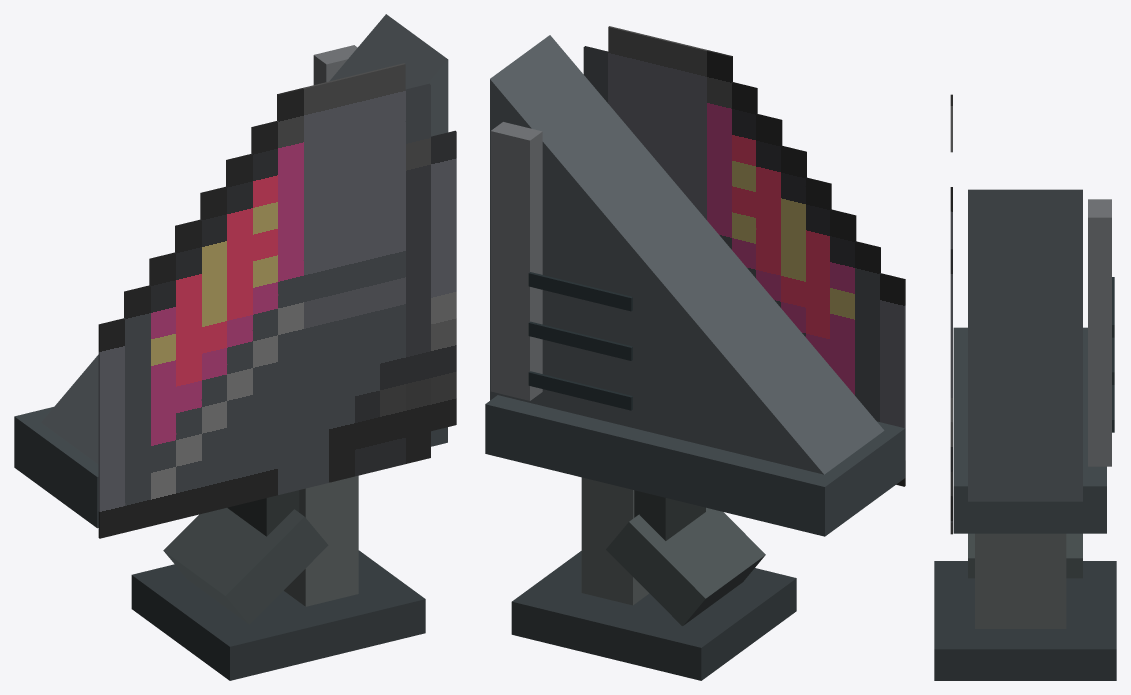
Rendered from CMU3DAutodocConsoleCloudNorth.glb.
3 renders of one model, left to right at view 1: azimuth 30°, elevation 25°; view 2: azimuth 150°, elevation 25°; view 3: azimuth 270°, elevation 25°, orthographic. The views are drawn at different scales.
Visible parts, largest first — view 1: original diagonal display and bezel, asymmetric floor foot, pedestal angled brace, sloping solid monitor enclosure, narrow pedestal stem, cast monitor lower tray, pedestal dark rear web, top rear spine; view 2: sloping solid monitor enclosure, original diagonal display and bezel, cast monitor lower tray, asymmetric floor foot, top rear spine, pedestal angled brace, narrow pedestal stem, rear heat slit (×3), pedestal dark rear web; view 3: sloping solid monitor enclosure, asymmetric floor foot, cast monitor lower tray, narrow pedestal stem, top rear spine, original diagonal display and bezel, pedestal angled brace.
Part boxes in pixels (x1,y1,x2,y2): original diagonal display and bezel: (98, 63, 456, 538); asymmetric floor foot: (131, 550, 425, 680); pedestal angled brace: (163, 508, 328, 624); sloping solid monitor enclosure: (41, 14, 448, 464); narrow pedestal stem: (284, 475, 358, 606); cast monitor lower tray: (14, 407, 447, 528); pedestal dark rear web: (227, 490, 299, 536); top rear spine: (313, 45, 357, 84); sloping solid monitor enclosure: (490, 35, 884, 474); original diagonal display and bezel: (583, 26, 905, 486); cast monitor lower tray: (485, 395, 905, 536); asymmetric floor foot: (511, 551, 796, 680); top rear spine: (490, 122, 542, 400); pedestal angled brace: (606, 507, 765, 625); narrow pedestal stem: (581, 477, 649, 605); rear heat slit (×3): (528, 272, 632, 410); pedestal dark rear web: (634, 490, 705, 540); sloping solid monitor enclosure: (968, 189, 1082, 501); asymmetric floor foot: (934, 561, 1116, 680); cast monitor lower tray: (953, 327, 1106, 533); narrow pedestal stem: (975, 533, 1066, 628); top rear spine: (1088, 199, 1111, 466); original diagonal display and bezel: (950, 94, 952, 534); pedestal angled brace: (968, 533, 1082, 578).
Size of what is drawn, in the model's own units: 0.44 by 0.6625 by 0.209.
Materials: 9 (1 with a texture image).
